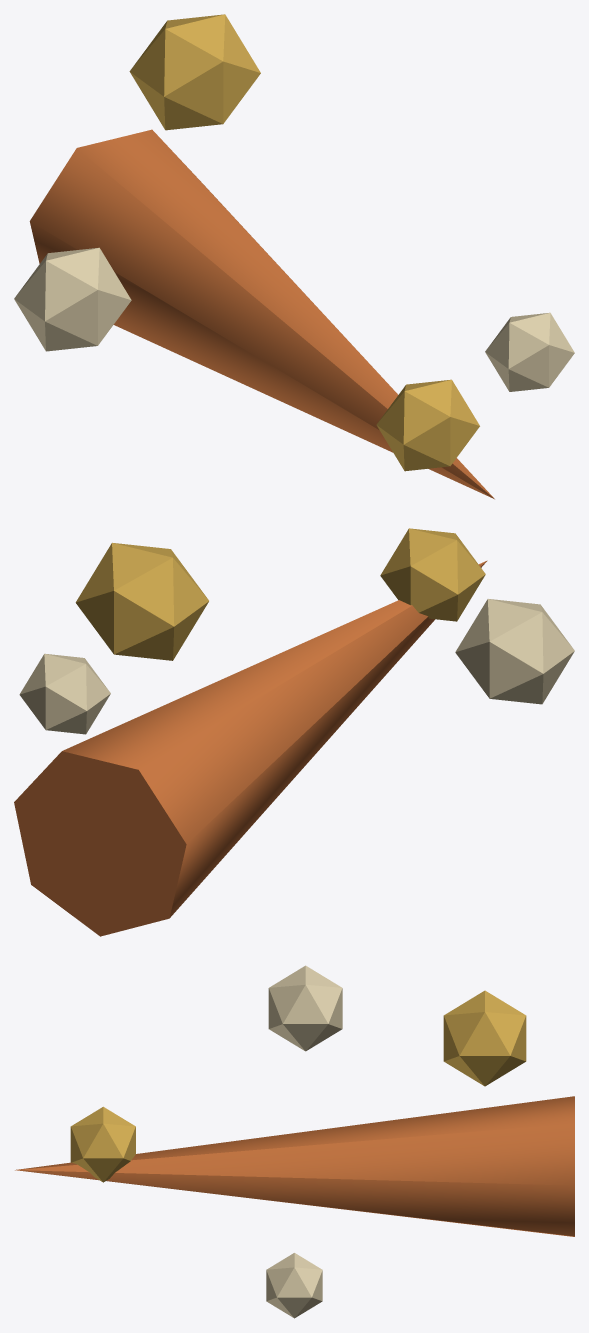
The model's file is crossbow.glb.
3 views of the same model, one above another, from view 1: azimuth 30°, elevation 25°; view 2: azimuth 150°, elevation 25°; view 3: azimuth 270°, elevation 25° (orthographic). The views are drawn at different scales.
Visible parts, largest first — view 1: crossbow_trail, crossbow_spark_3, crossbow_spark_2, crossbow_spark_1, crossbow_spark_0; view 2: crossbow_trail, crossbow_spark_3, crossbow_spark_2, crossbow_spark_1, crossbow_spark_0; view 3: crossbow_trail, crossbow_spark_3, crossbow_spark_2, crossbow_spark_1, crossbow_spark_0.
Boxes of the visible parts, box(x1,y1,x2,y2) form: crossbow_trail: box(29, 129, 494, 499); crossbow_spark_3: box(129, 14, 260, 130); crossbow_spark_2: box(14, 247, 131, 351); crossbow_spark_1: box(376, 379, 479, 471); crossbow_spark_0: box(485, 312, 574, 391); crossbow_trail: box(14, 560, 487, 936); crossbow_spark_3: box(75, 542, 208, 660); crossbow_spark_2: box(455, 599, 574, 704); crossbow_spark_1: box(380, 528, 485, 621); crossbow_spark_0: box(19, 653, 110, 734); crossbow_trail: box(15, 1096, 574, 1236); crossbow_spark_3: box(443, 990, 526, 1086); crossbow_spark_2: box(268, 965, 342, 1051); crossbow_spark_1: box(70, 1106, 135, 1182); crossbow_spark_0: box(266, 1253, 322, 1318).
Size of what is drawn, in the model's own units: 1.75 by 1.05 by 2.2.
